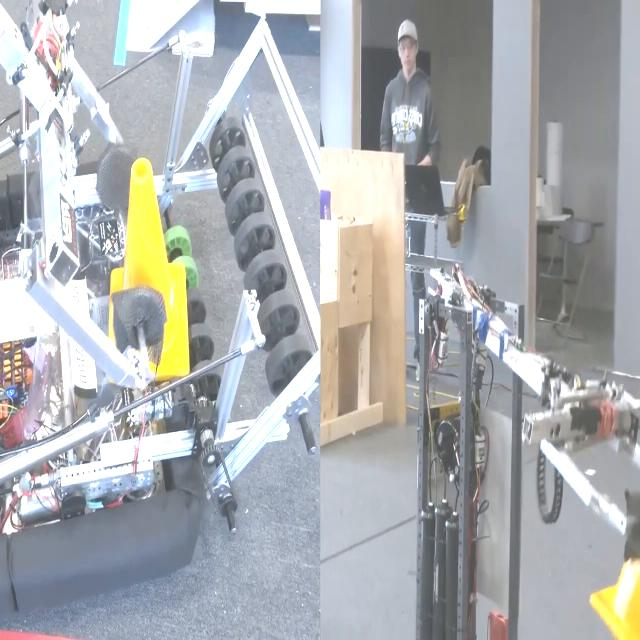frc_cone: (107, 168, 188, 382), (588, 491, 640, 640)
frc_cube: (320, 184, 332, 228)
